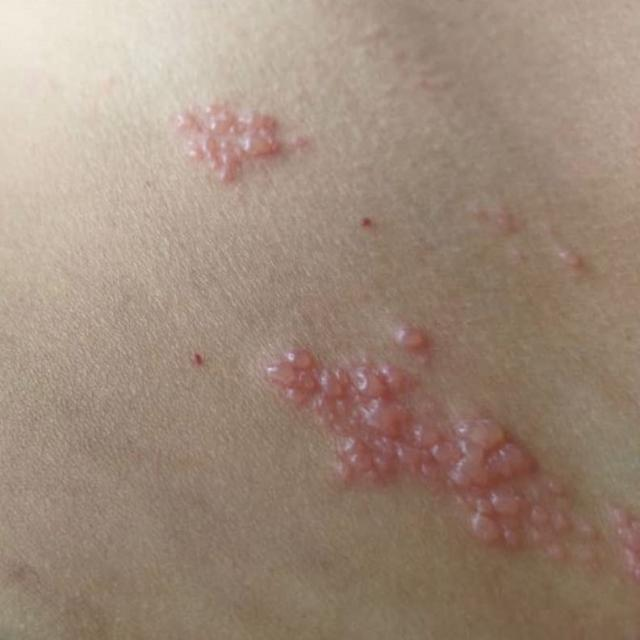Shingles: (254, 316, 640, 586), (164, 98, 304, 188)
